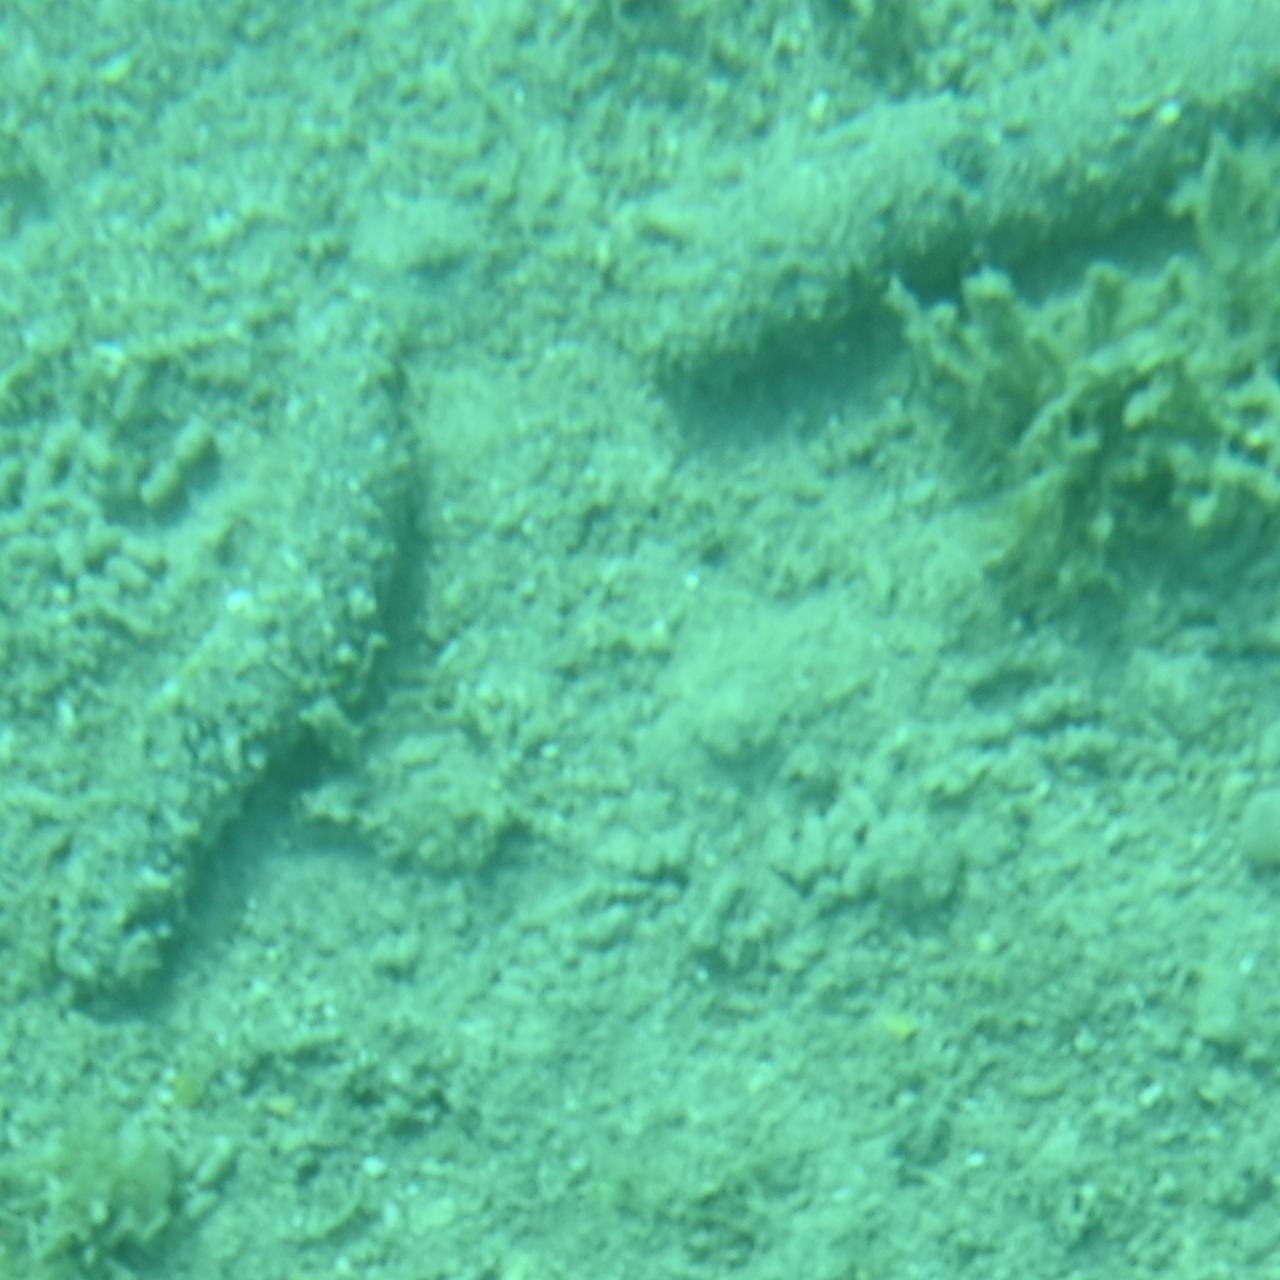Holothuria tubulosa: (20, 256, 444, 1026), (628, 0, 1280, 427)
